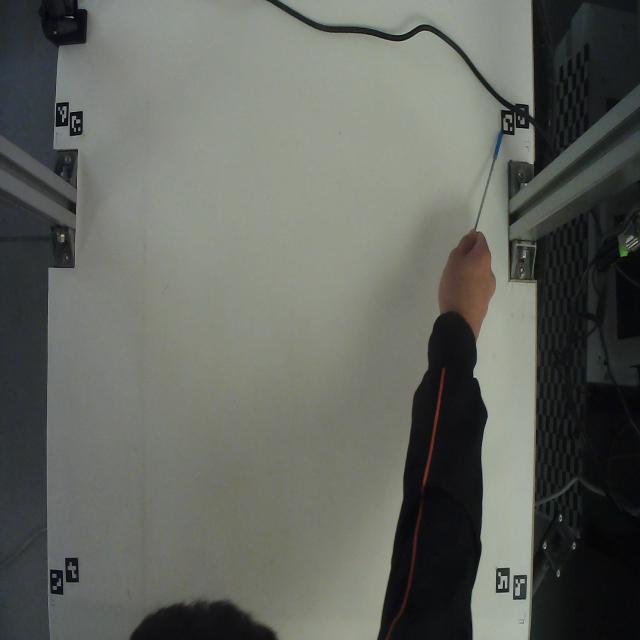Pres: (463, 112, 516, 238)
